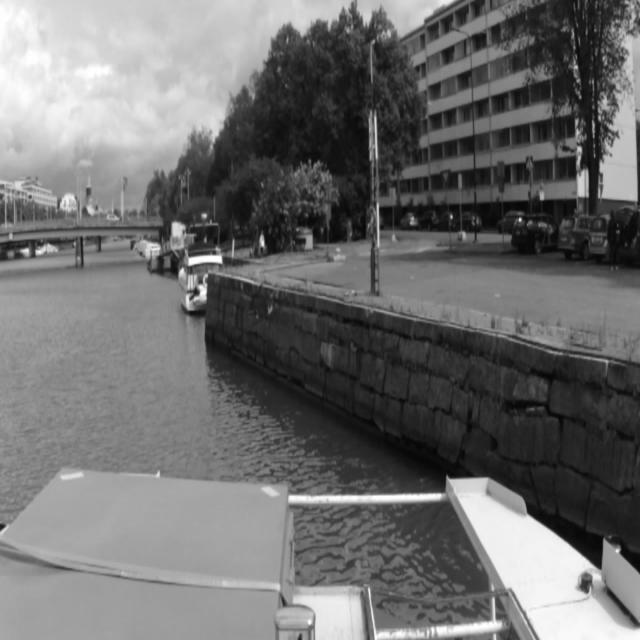ship: (178, 212, 222, 316)
